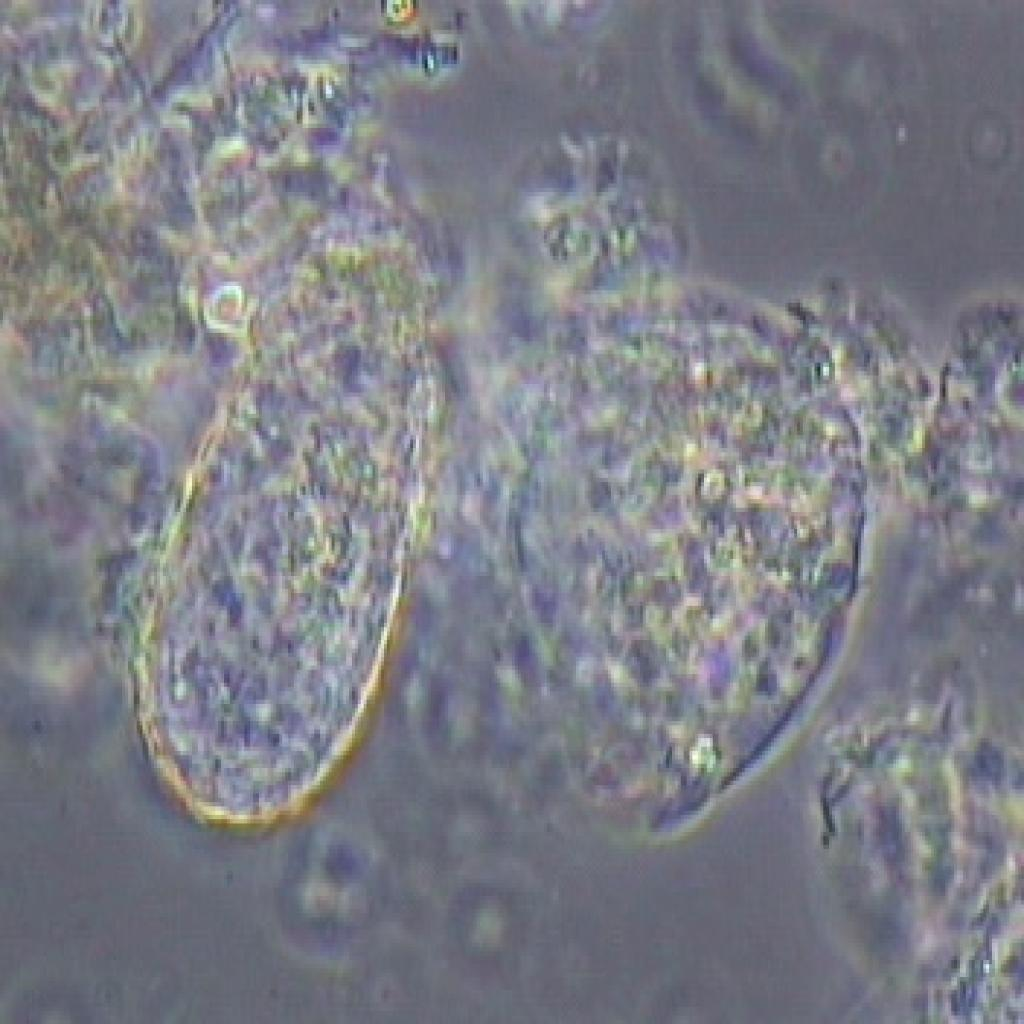Euglypha: (140, 214, 460, 840)
